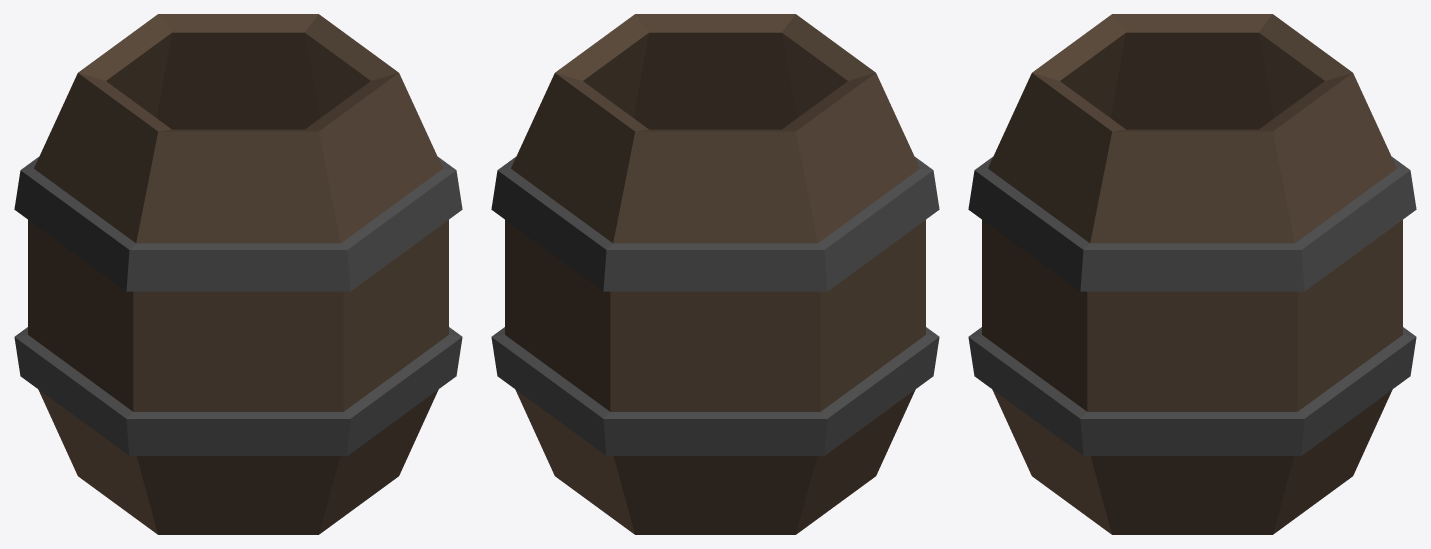
The model's file is Barrel.fbx.
The picture shows the model from 3 angles, left to right: view 1: azimuth 30°, elevation 25°; view 2: azimuth 150°, elevation 25°; view 3: azimuth 270°, elevation 25°; orthographic projection.
Parts seen in each view (by area): view 1: Barrel; view 2: Barrel; view 3: Barrel.
Part boxes in pixels (x1,y1,x2,y2): Barrel: (14, 14, 462, 534); Barrel: (491, 14, 939, 534); Barrel: (968, 14, 1416, 534).
Size of the model in its own units: 174 by 200 by 201.
